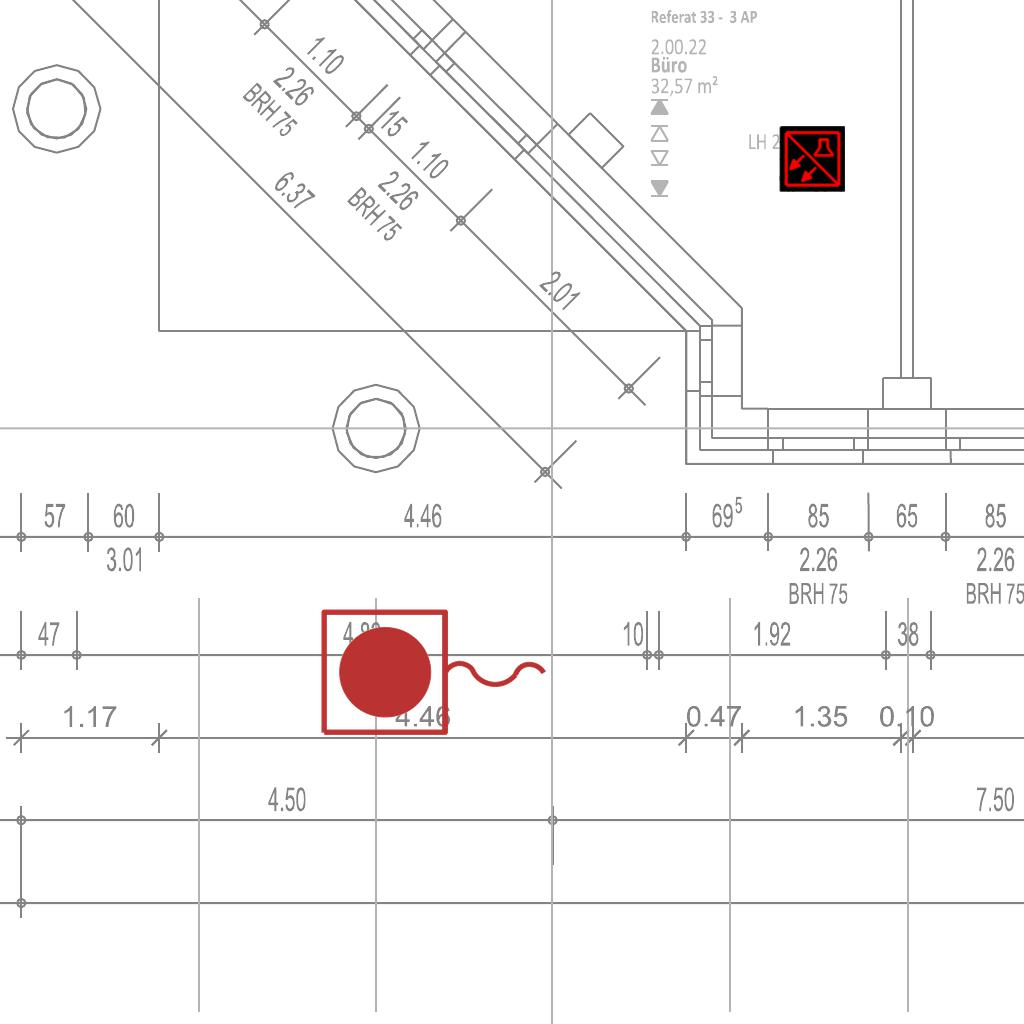OKW_Multisensormelder_(Kombination_optischer_Rauch-Kahlenmonoxid_Waerme-Melder): (779, 126, 845, 192)
Zugtaster: (313, 602, 557, 746)
